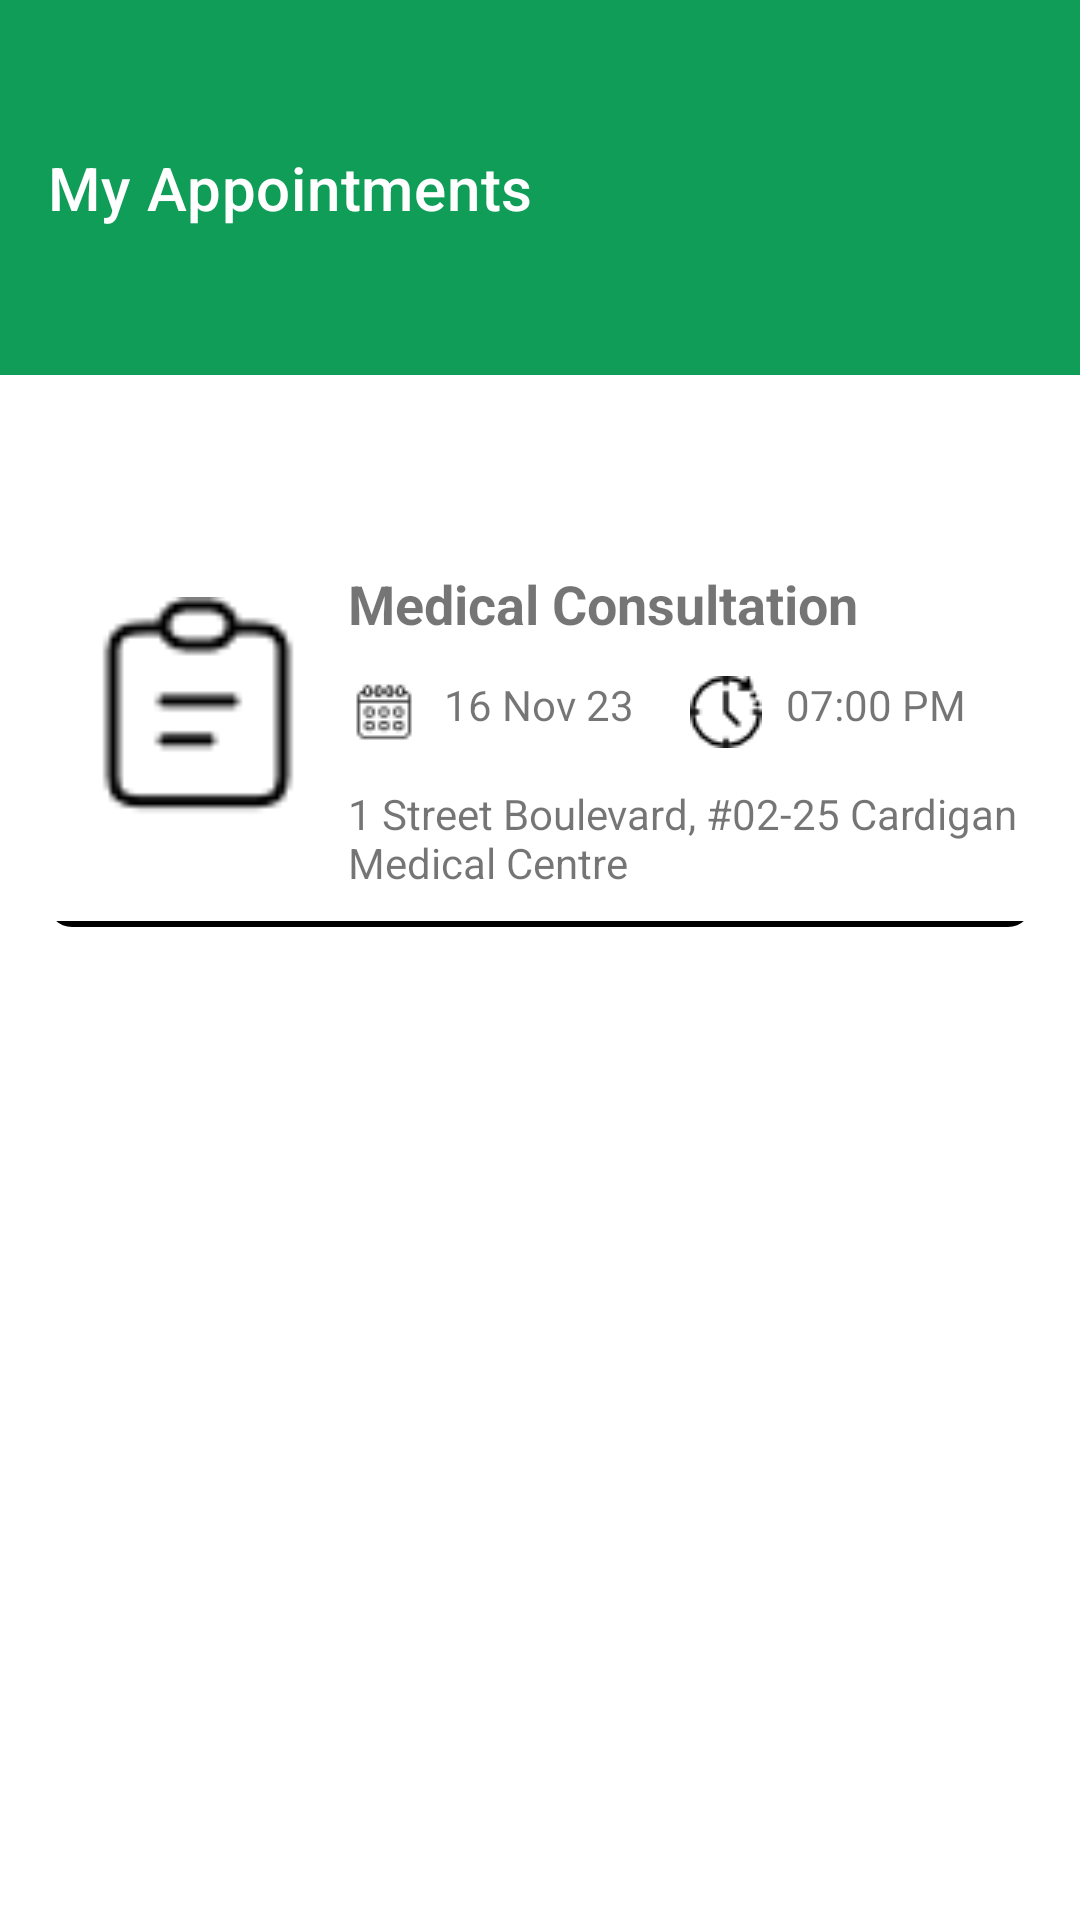

Locate icon controls on the screen. Image size 1080px×1920px, boxes as (x1, y1, x2, y2).
appointment: (103, 597, 293, 811)
